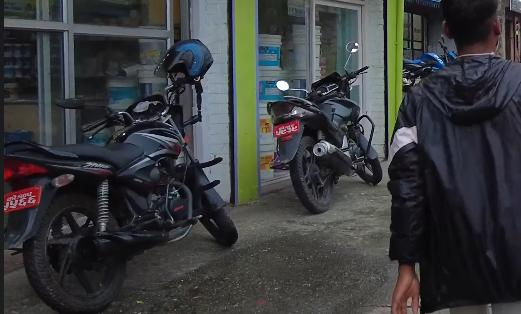bike: (2, 70, 242, 314), (265, 39, 386, 218)
